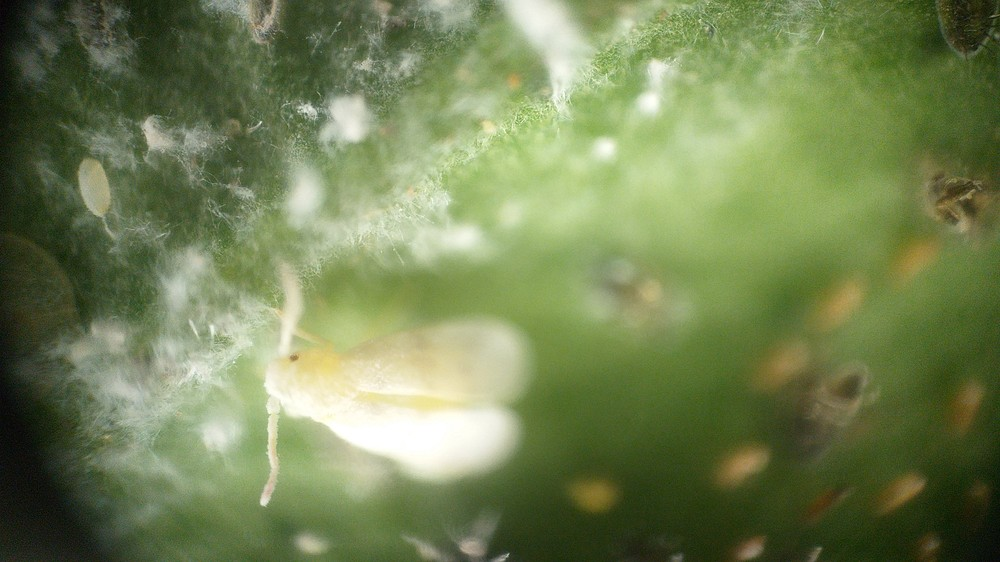Mosca Blanca: (204, 257, 590, 529)
